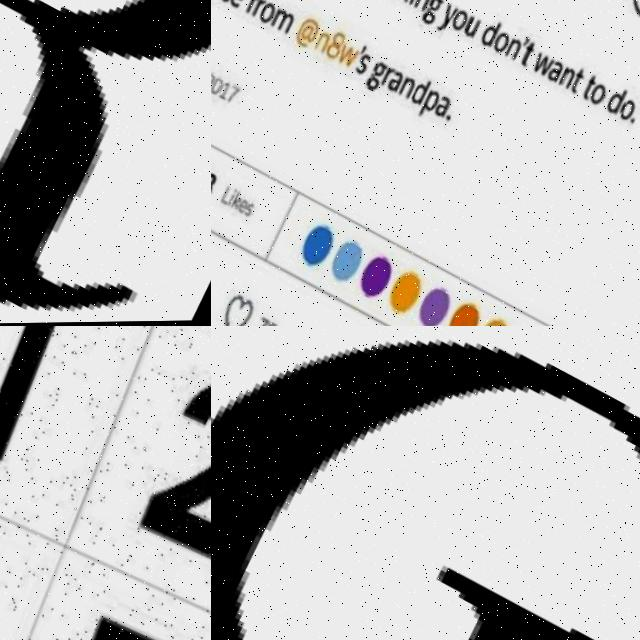0: (211, 75, 220, 96)
1: (0, 326, 92, 469), (211, 80, 227, 100)
2: (101, 353, 211, 579)
7: (218, 84, 238, 106), (241, 316, 262, 326)
8: (318, 29, 345, 61), (250, 320, 269, 326)
A: (378, 70, 402, 97), (426, 95, 450, 121), (539, 59, 562, 85)
D: (472, 19, 499, 51), (596, 86, 623, 118), (401, 76, 428, 108)
E: (227, 198, 244, 217), (221, 0, 245, 10)
F: (238, 0, 262, 17)
G: (211, 326, 640, 640), (356, 61, 385, 94), (414, 0, 442, 28)
I: (218, 188, 232, 208), (403, 0, 423, 6)
K: (222, 192, 238, 211)
L: (212, 186, 228, 206)
M: (264, 8, 292, 35)
N: (391, 77, 414, 101), (551, 66, 573, 91), (497, 39, 519, 63), (308, 32, 328, 54), (407, 0, 430, 13)
O: (579, 83, 605, 110), (485, 30, 510, 56), (609, 98, 634, 124), (444, 8, 468, 34), (252, 1, 276, 27)
P: (411, 89, 438, 122)
R: (374, 66, 393, 90), (245, 0, 264, 19)
S: (347, 53, 368, 78), (235, 201, 250, 220)
T: (511, 41, 534, 69), (561, 69, 582, 96), (574, 75, 595, 102)
U: (455, 17, 478, 42)
W: (523, 53, 551, 81), (330, 44, 357, 70)
Y: (430, 5, 456, 36)
